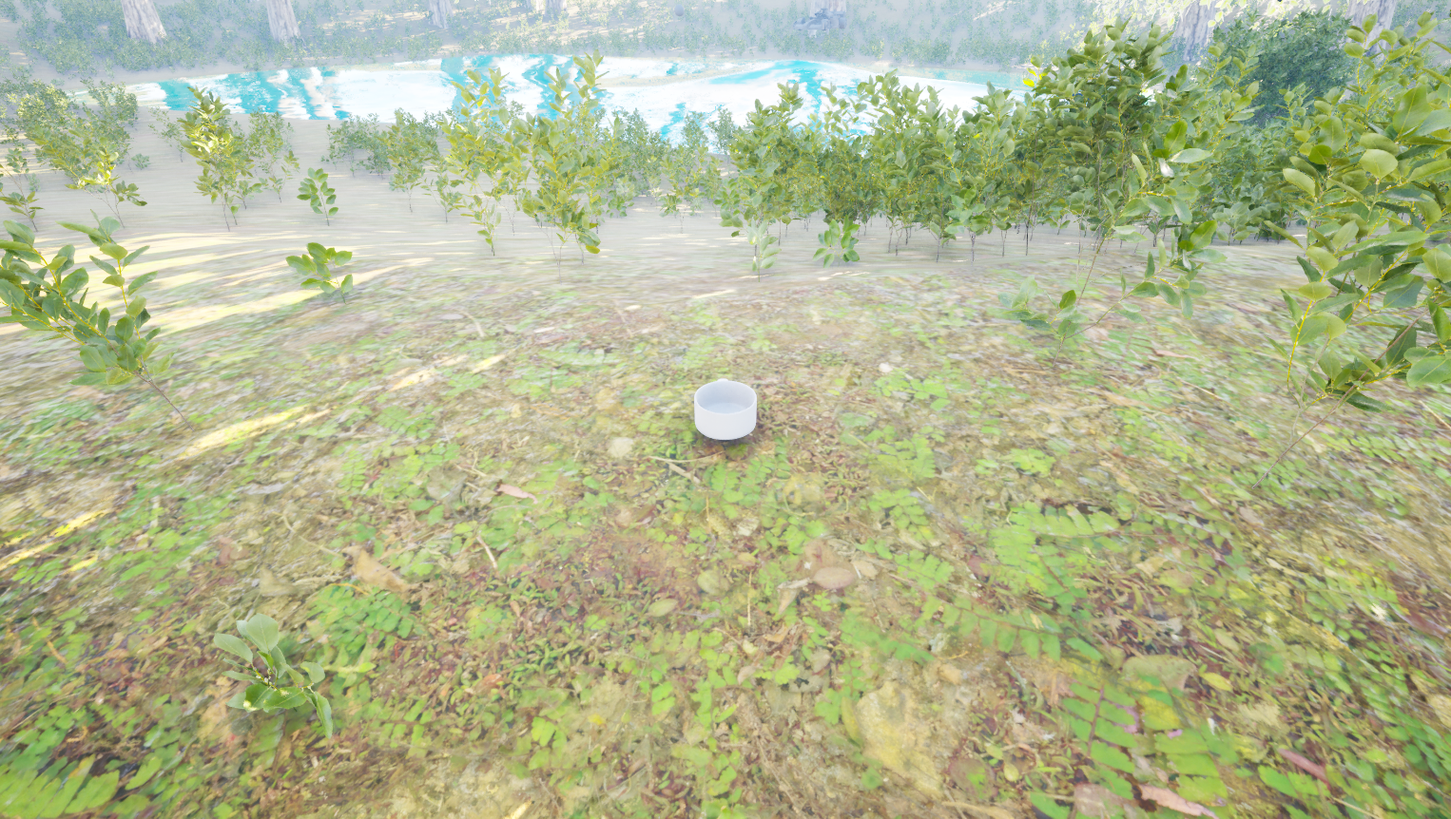Teacup: (682, 371, 772, 448)
